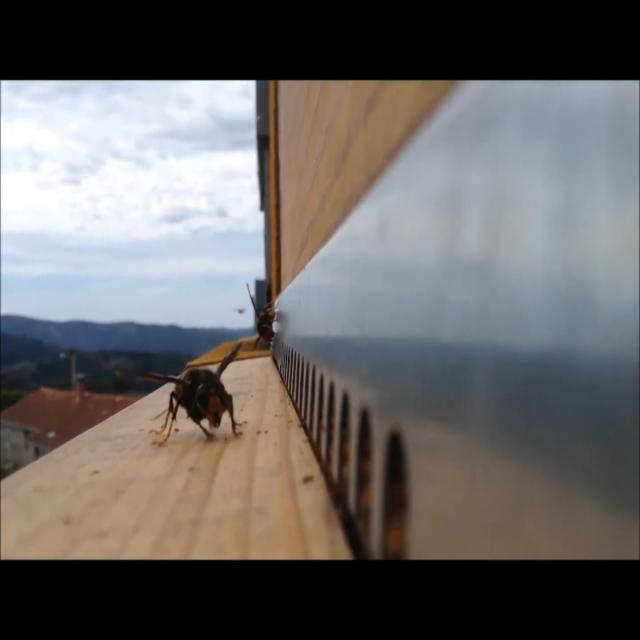Hornets: (135, 341, 249, 447), (244, 281, 282, 353)
